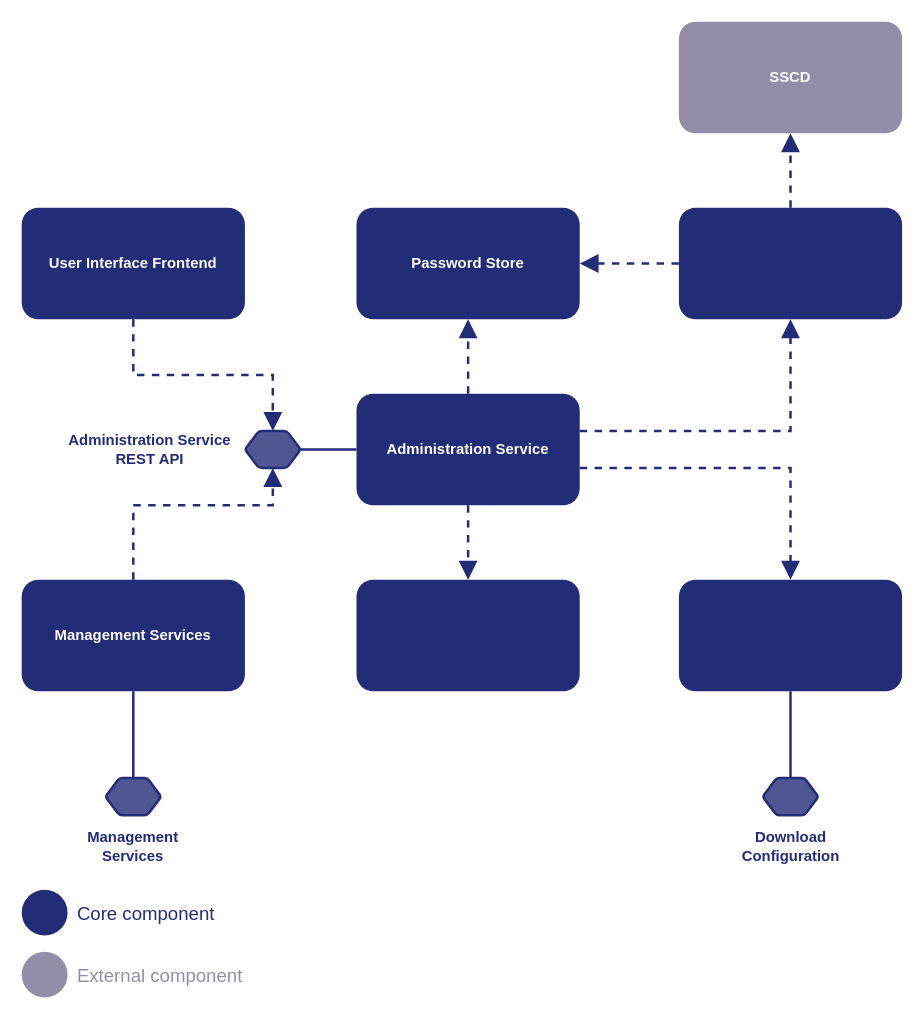
Image size: 923x1018. Some labels were removed from this diagram. The centre of each missing label's shape, as x and y in pixels:
"Database" belongs at (467,635).
"Signer" belongs at (789,263).
"Web Server" belongs at (789,635).
